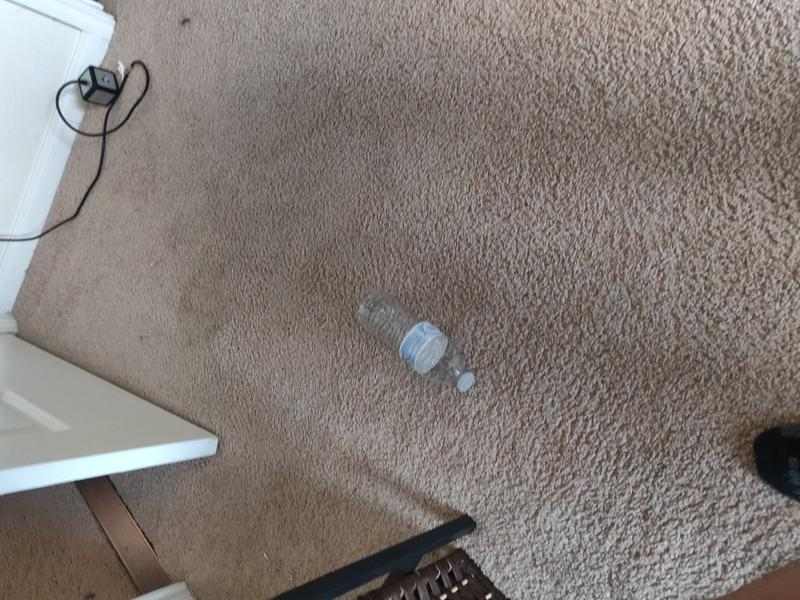bottle: (357, 290, 475, 393)
